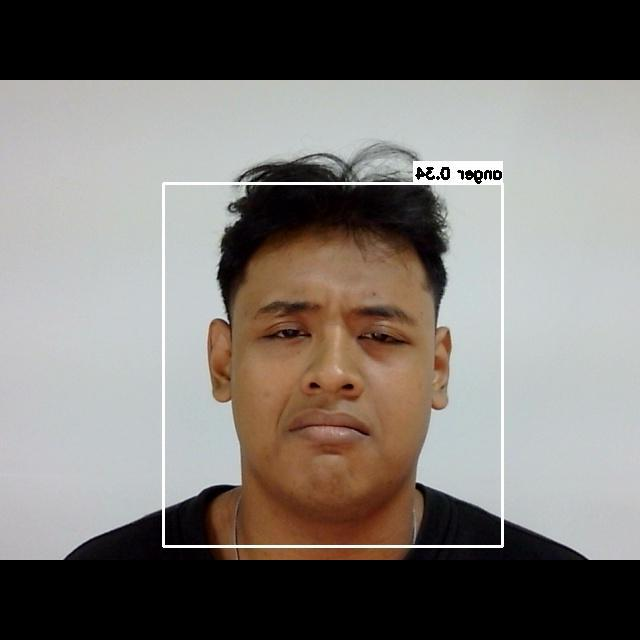Sad: (234, 278, 430, 499)
